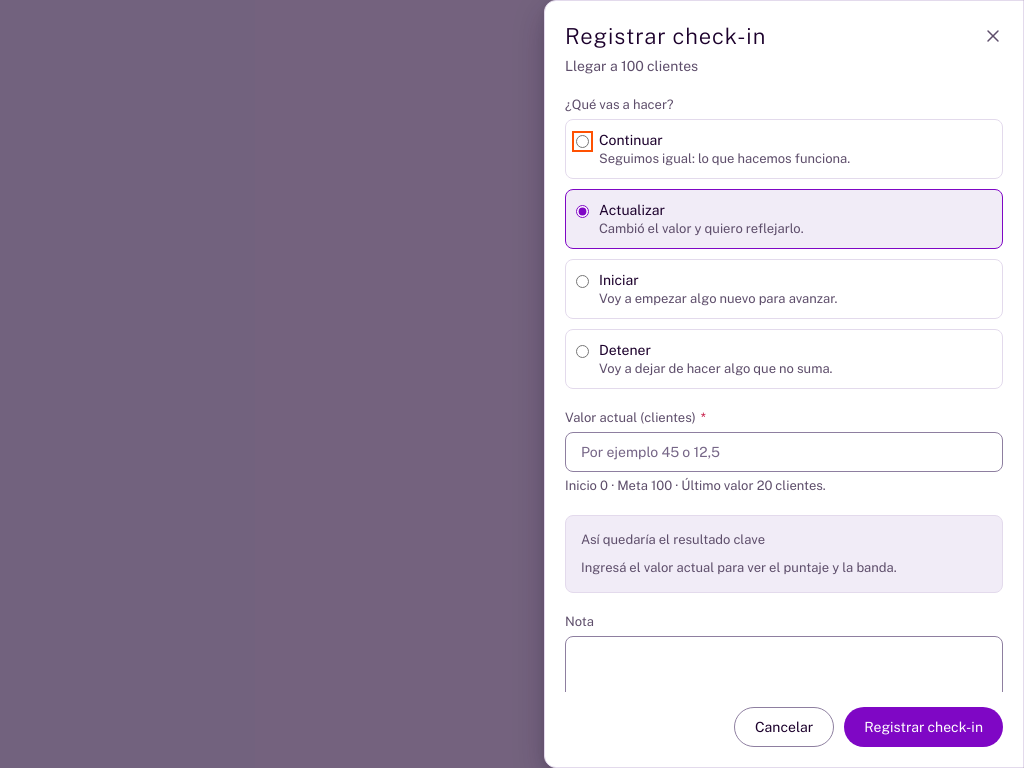
Scenario: CheckInDrawer › recorta el score a 0 y 1
The width and height of the screenshot is (1024, 768).
Type "500" into the field labelled "Valor actual (clientes)*".
click(784, 452); type("500")  # box [565, 432, 1003, 472]
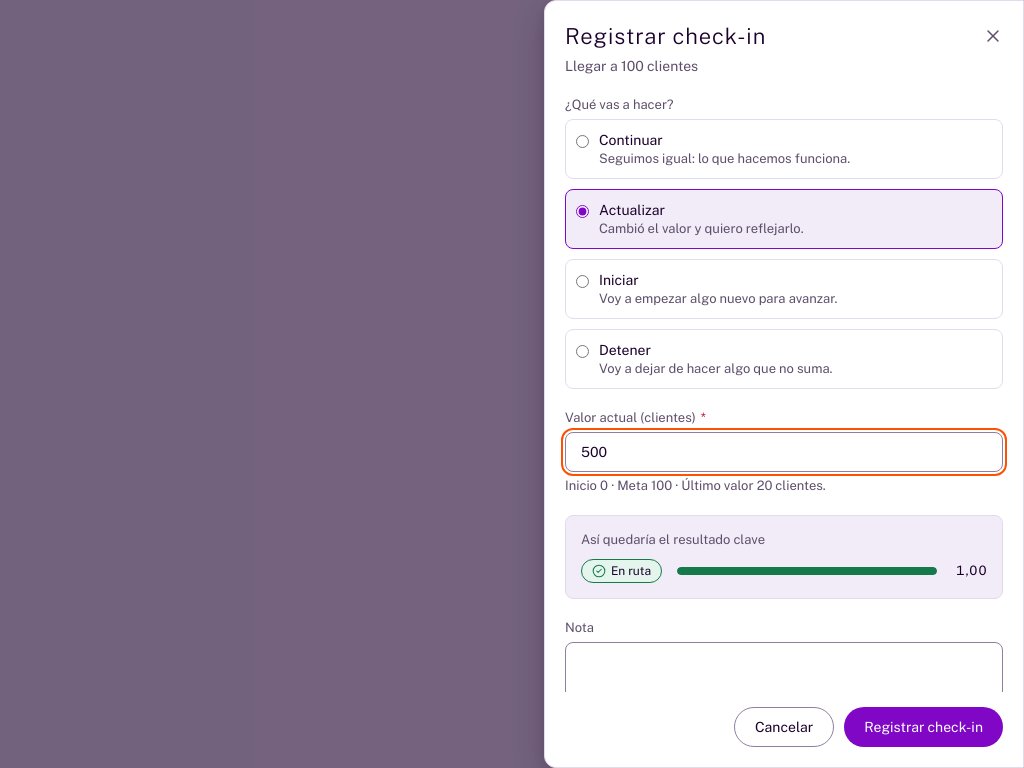
Now the element with test id "check-in-preview" shows "1,00", box [956, 563, 987, 578]
Replace the text in the field labelled "Valor actual (clientes)*" with "-20" at (784, 452), box [565, 432, 1003, 472]
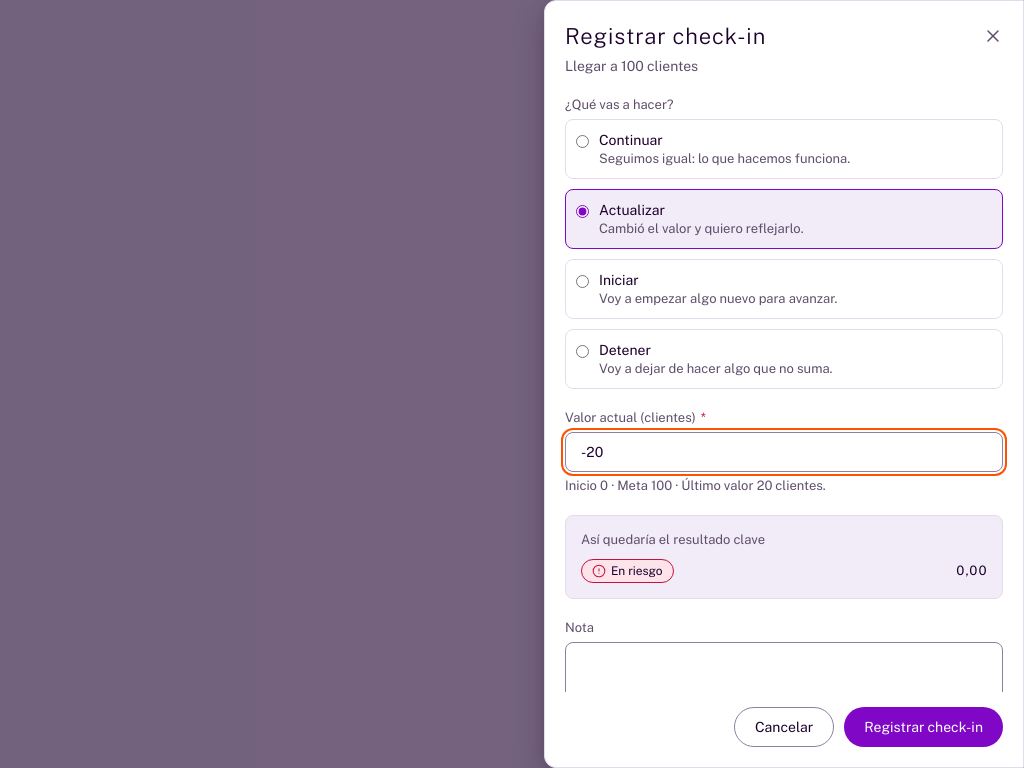
Now the element with test id "check-in-preview" shows "0,00", box [956, 563, 987, 578]
Now the element with test id "check-in-preview" shows "En riesgo", box [611, 564, 663, 578]
